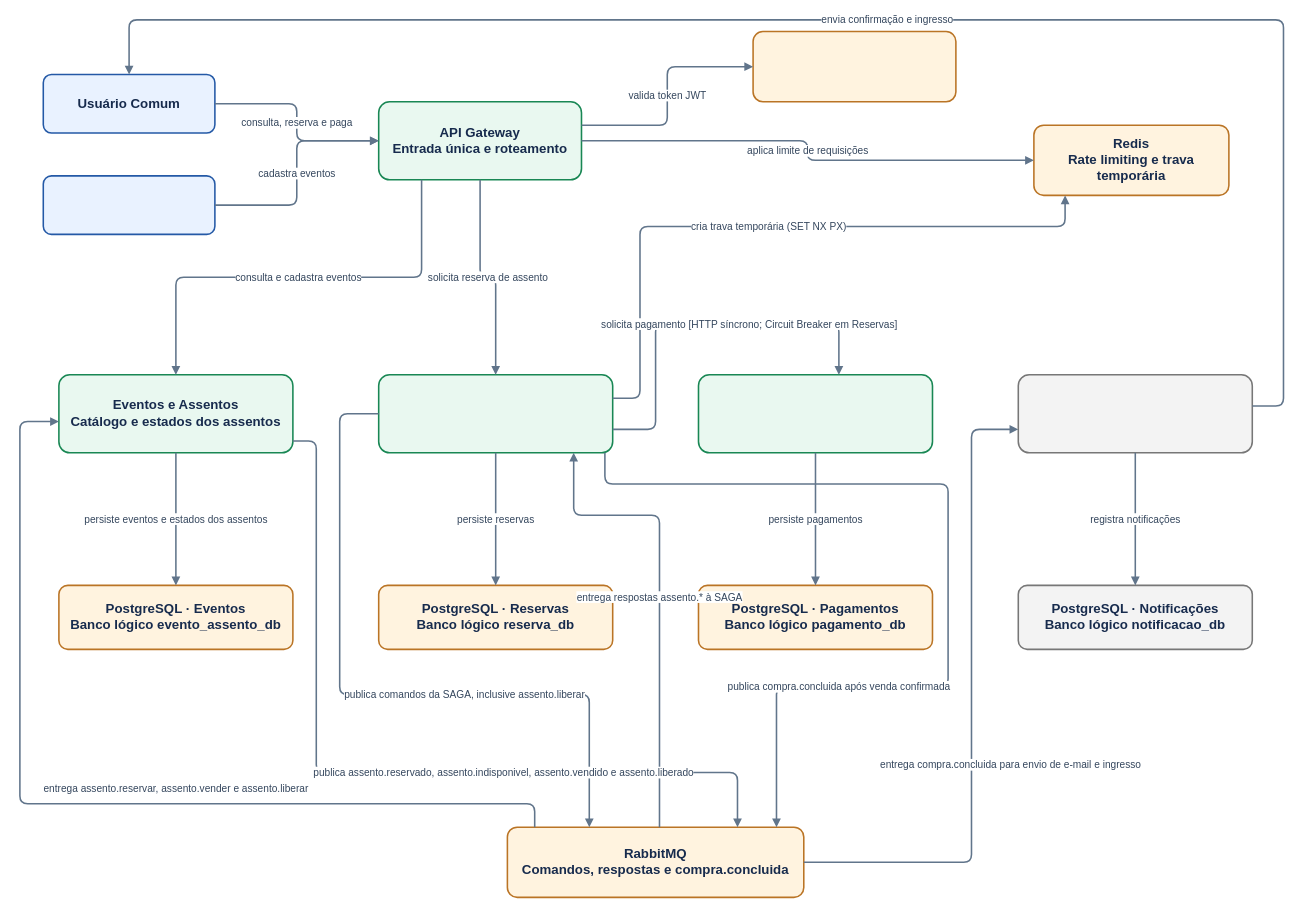
The diagram is 1303 pixels wide and 911 high, and some of its shapes have lost their labels. Here are the shapes that lost their labels. From the top down, the box of each, then its label:
(752, 30, 956, 102): Keycloak OAuth 2.0 / JWT
(42, 175, 215, 235): Gestor de Eventos
(378, 374, 613, 453): Serviço de Reservas Orquestra SAGA e compensação
(697, 374, 933, 453): Serviço de Pagamentos Pagamento simulado
(1017, 374, 1253, 453): Serviço de Notificações Planejado
